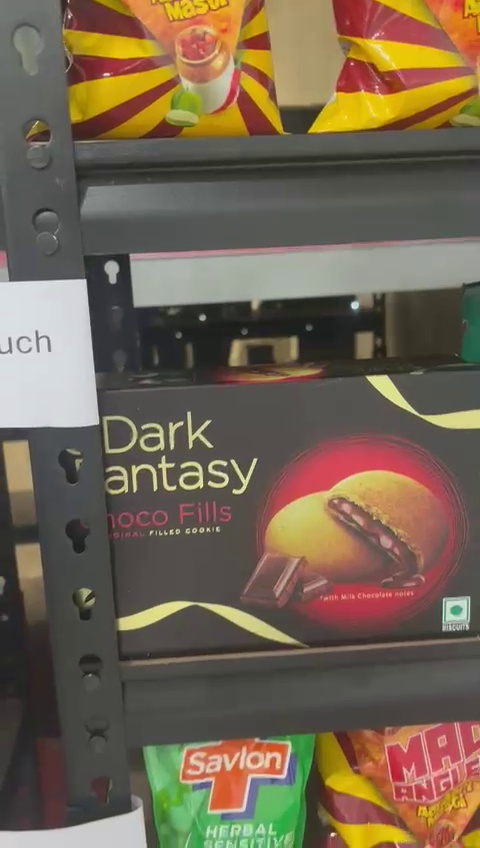Dark Fantasy: (94, 382, 480, 650)
